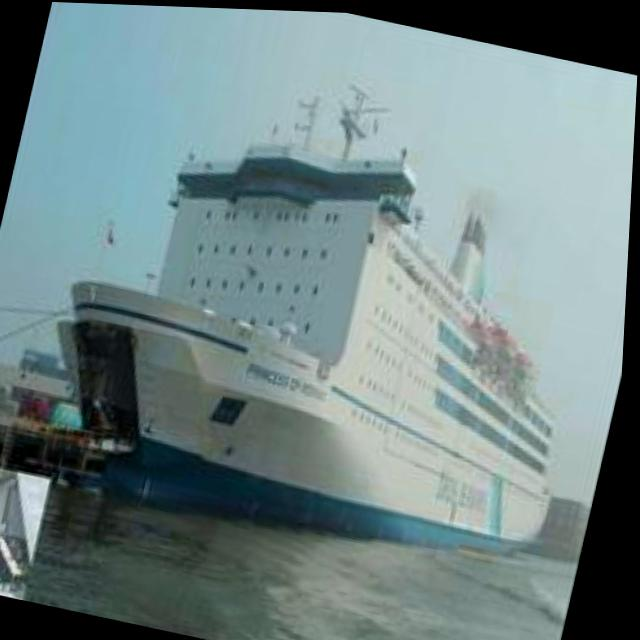ship2: (76, 86, 559, 554)
